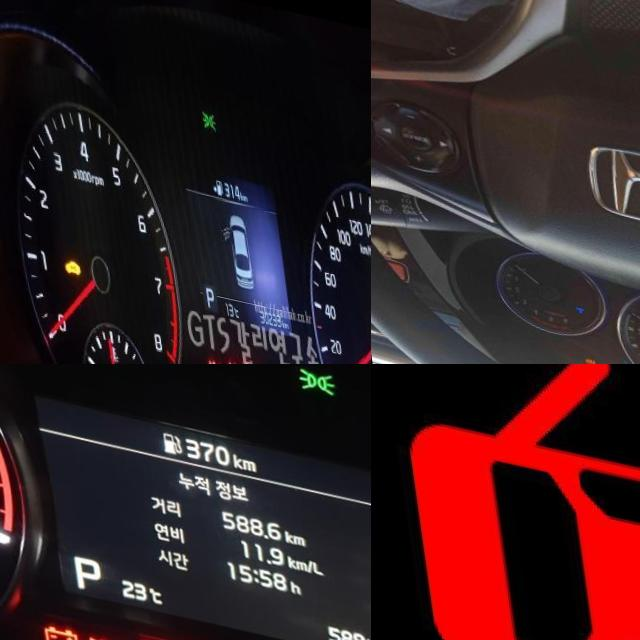SideLamp: (291, 364, 330, 373), (197, 96, 212, 117)
